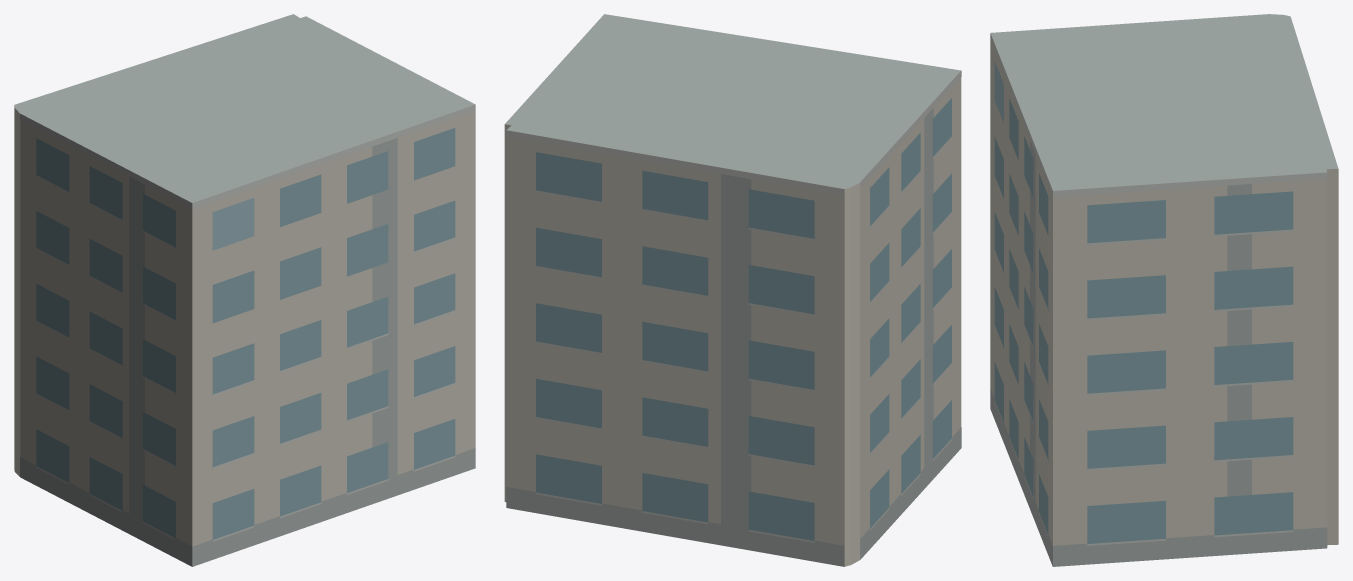
Rendered from survey-upis-32530301.glb.
The picture shows the model from 3 angles, left to right: view 1: azimuth 30°, elevation 25°; view 2: azimuth 150°, elevation 25°; view 3: azimuth 270°, elevation 25°; orthographic projection. The views are drawn at different scales.
Parts seen in each view (by area): view 1: survey-upis-32530301.tmp; view 2: survey-upis-32530301.tmp; view 3: survey-upis-32530301.tmp.
Part boxes in pixels (box(x1,y1,x2,y2)): survey-upis-32530301.tmp: box(14, 14, 475, 566); survey-upis-32530301.tmp: box(504, 14, 961, 566); survey-upis-32530301.tmp: box(990, 14, 1338, 566).
Bounding box in the file's own units: 14.47 × 14.32 × 12.03.
